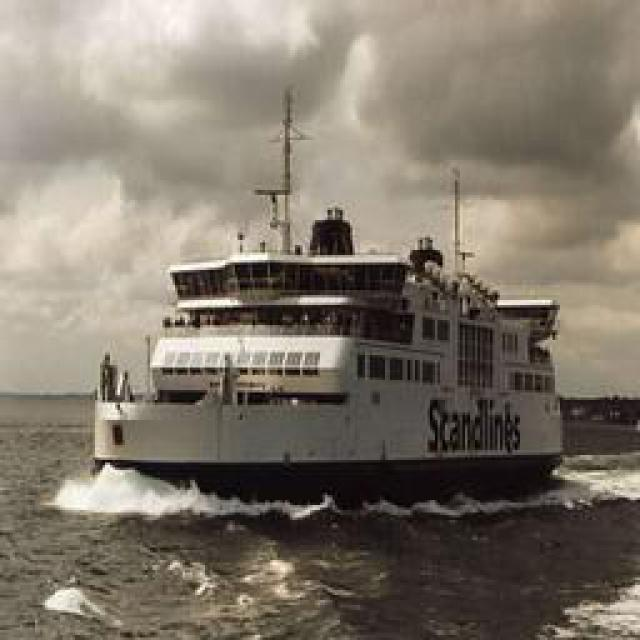Ship: (96, 183, 569, 501)
